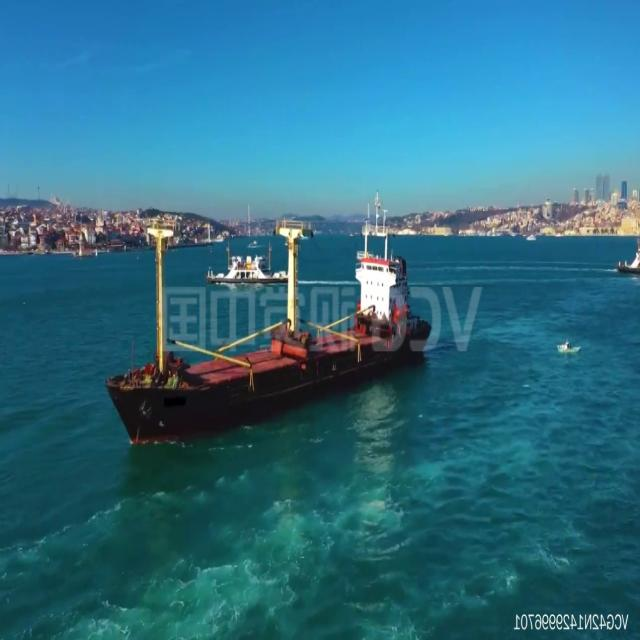cargoship: (108, 229, 448, 447)
fishing boat: (205, 242, 294, 287)
houseboat: (616, 239, 640, 276), (556, 333, 580, 358)
